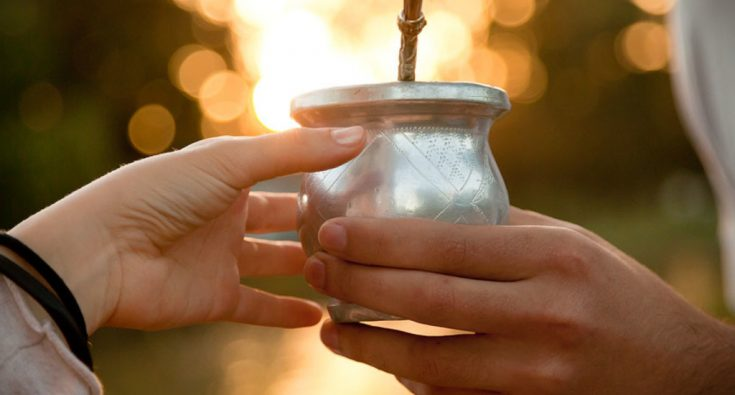guampa: (283, 2, 535, 325)
